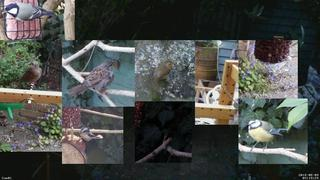blue tit: (246, 118, 288, 153)
dunnock: (66, 60, 115, 96)
great tit: (2, 2, 55, 21)
long tailed tit: (77, 127, 103, 144)
robin: (152, 60, 175, 86)
starling: (15, 60, 42, 90)
